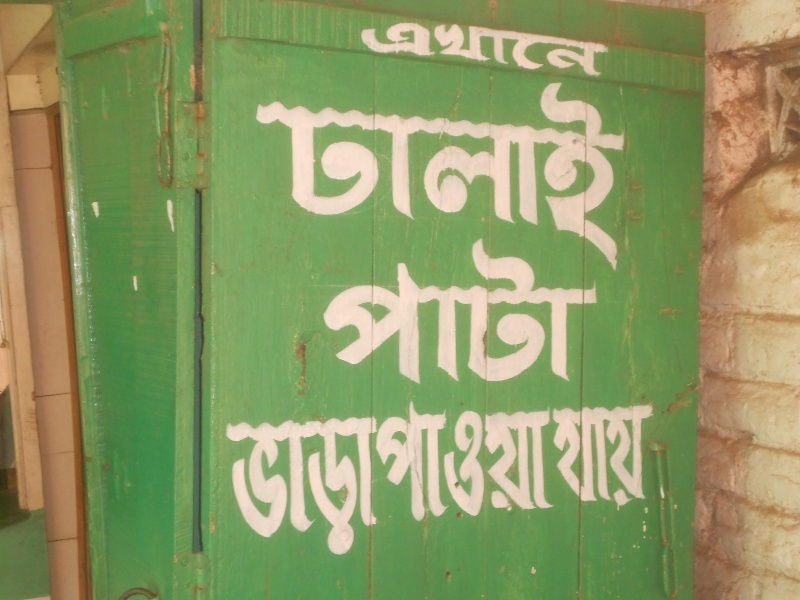text: (273, 65, 288, 274), (289, 65, 304, 274), (305, 65, 320, 274), (321, 65, 336, 274), (337, 65, 352, 274), (353, 65, 368, 274), (369, 65, 384, 274), (385, 65, 400, 274), (401, 65, 416, 274), (417, 65, 432, 274), (433, 65, 448, 274), (449, 65, 464, 274), (465, 65, 480, 274), (481, 65, 496, 274), (497, 65, 512, 274), (513, 65, 528, 274), (529, 65, 544, 274), (545, 65, 560, 274), (561, 65, 576, 274), (577, 65, 592, 274), (593, 65, 608, 274), (609, 65, 624, 274), (625, 65, 640, 274), (258, 65, 272, 274), (225, 405, 240, 566), (241, 405, 256, 566), (257, 405, 272, 566), (273, 405, 288, 566), (289, 405, 304, 566), (305, 405, 320, 566), (321, 405, 336, 566), (337, 405, 352, 566), (353, 405, 368, 566), (369, 405, 384, 566), (321, 236, 336, 390), (337, 236, 352, 390), (353, 236, 368, 390), (369, 236, 384, 390), (385, 236, 400, 390), (401, 236, 416, 390), (417, 236, 432, 390), (433, 236, 448, 390), (449, 236, 464, 390), (465, 236, 480, 390), (481, 236, 496, 390), (497, 236, 512, 390), (513, 236, 528, 390), (529, 236, 544, 390), (545, 236, 560, 390), (561, 236, 576, 390), (577, 236, 592, 390), (545, 399, 561, 525), (385, 399, 400, 525), (401, 399, 416, 525), (417, 399, 432, 525), (433, 399, 448, 525), (449, 399, 464, 525), (465, 399, 480, 525), (481, 399, 496, 525), (497, 399, 512, 525), (513, 399, 528, 525), (529, 399, 544, 525), (561, 402, 576, 516), (577, 402, 592, 516), (593, 402, 608, 516), (609, 402, 624, 516), (625, 402, 640, 516), (309, 236, 320, 390), (641, 402, 655, 516), (372, 399, 384, 525), (369, 8, 384, 81), (385, 8, 400, 81), (401, 8, 416, 81), (417, 8, 432, 81), (433, 8, 448, 81), (449, 8, 464, 81), (465, 8, 480, 81), (481, 8, 496, 81), (497, 8, 512, 81), (513, 8, 528, 81), (529, 8, 544, 81), (545, 8, 560, 81), (561, 8, 576, 81), (577, 8, 592, 81), (593, 8, 608, 81), (593, 236, 600, 390), (551, 402, 560, 516), (385, 405, 391, 566), (359, 8, 368, 81), (609, 8, 615, 81), (641, 65, 643, 274), (222, 405, 224, 566)
